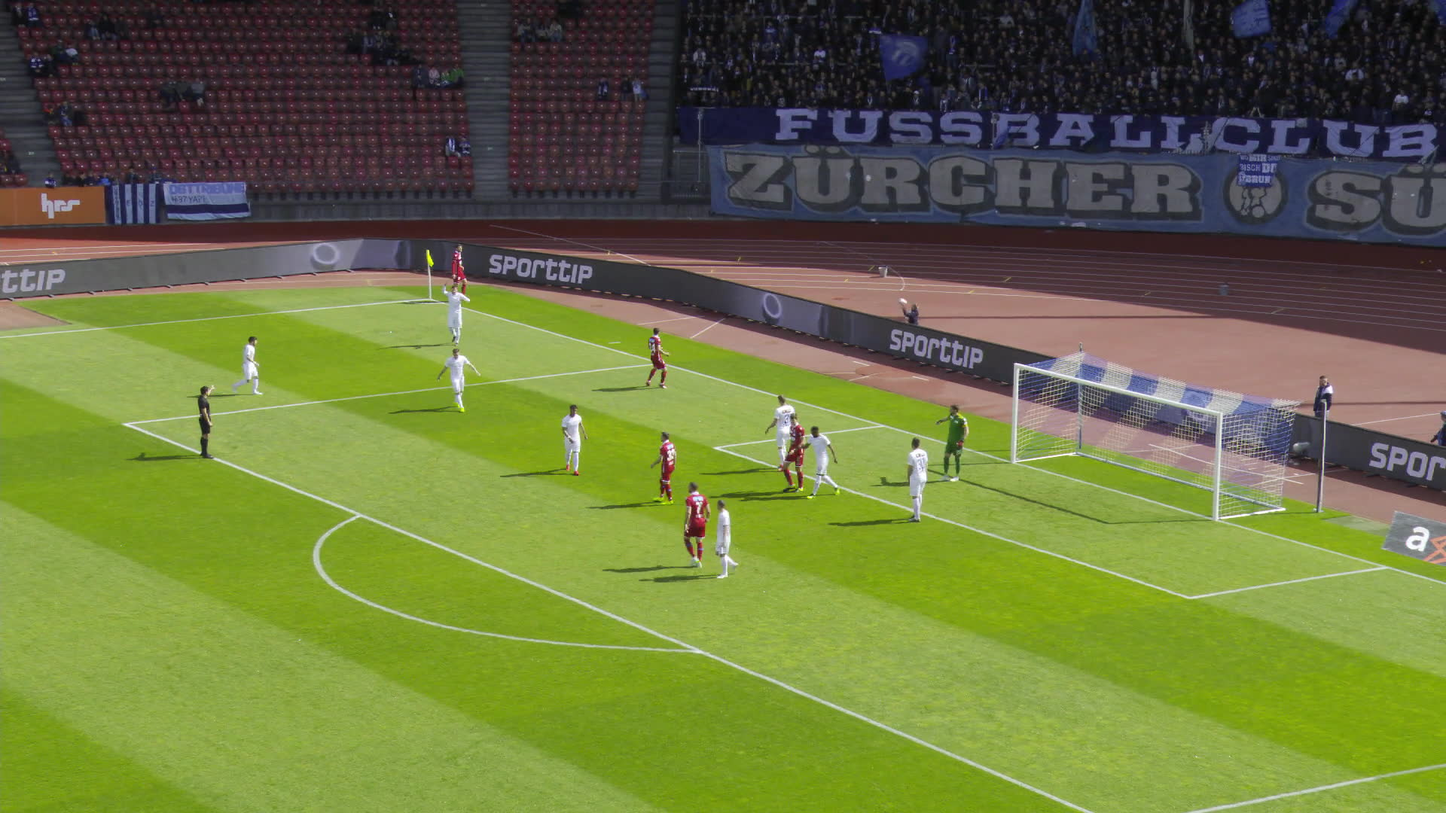ball: (894, 297, 902, 304)
player: (682, 480, 718, 567), (435, 350, 478, 416), (936, 405, 970, 484), (651, 432, 684, 507), (804, 425, 836, 500), (709, 501, 738, 581), (228, 336, 266, 395), (786, 413, 813, 494), (905, 437, 929, 522), (767, 397, 794, 470), (561, 404, 587, 477), (444, 284, 473, 349), (645, 326, 671, 388), (448, 244, 474, 302)
referee: (199, 385, 218, 458)
